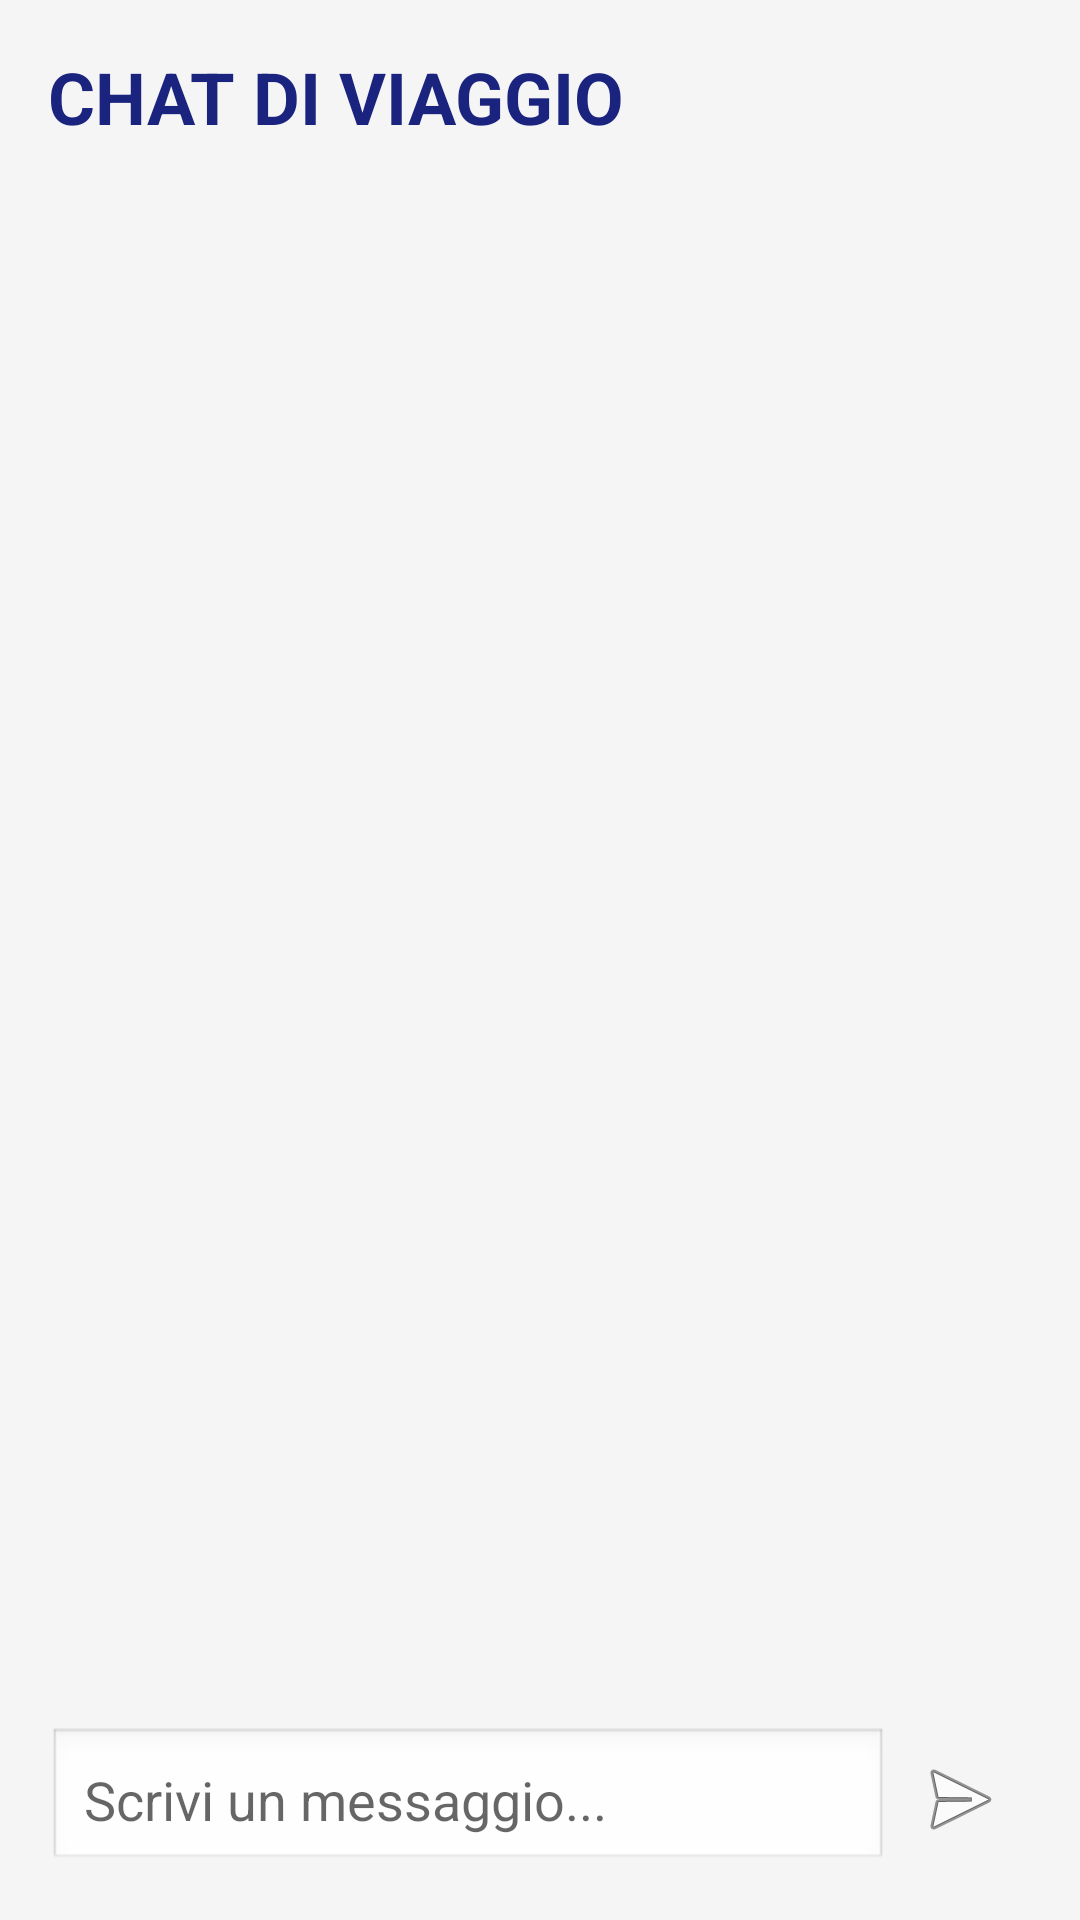

Screen size 1080px×1920px. Icon name, then its box in pixels as (x1, y1, x2, y2):
Invia: (930, 1769, 992, 1830)
